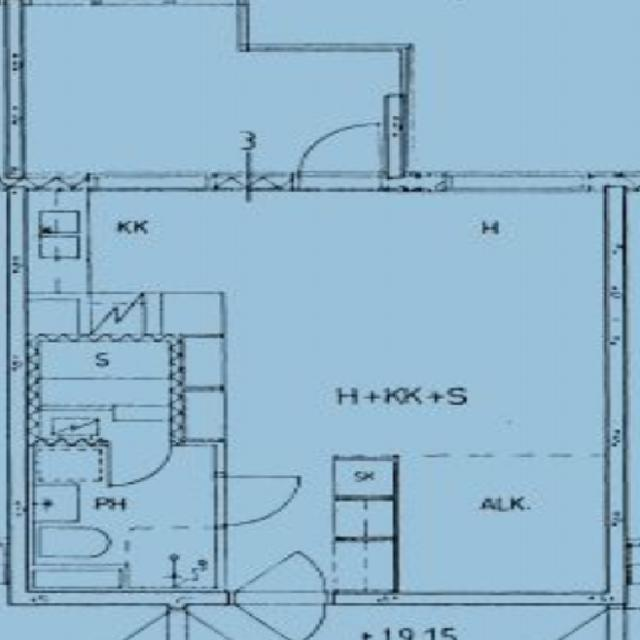door: (234, 532, 326, 606), (295, 117, 382, 191), (215, 476, 299, 524), (106, 439, 167, 485)
